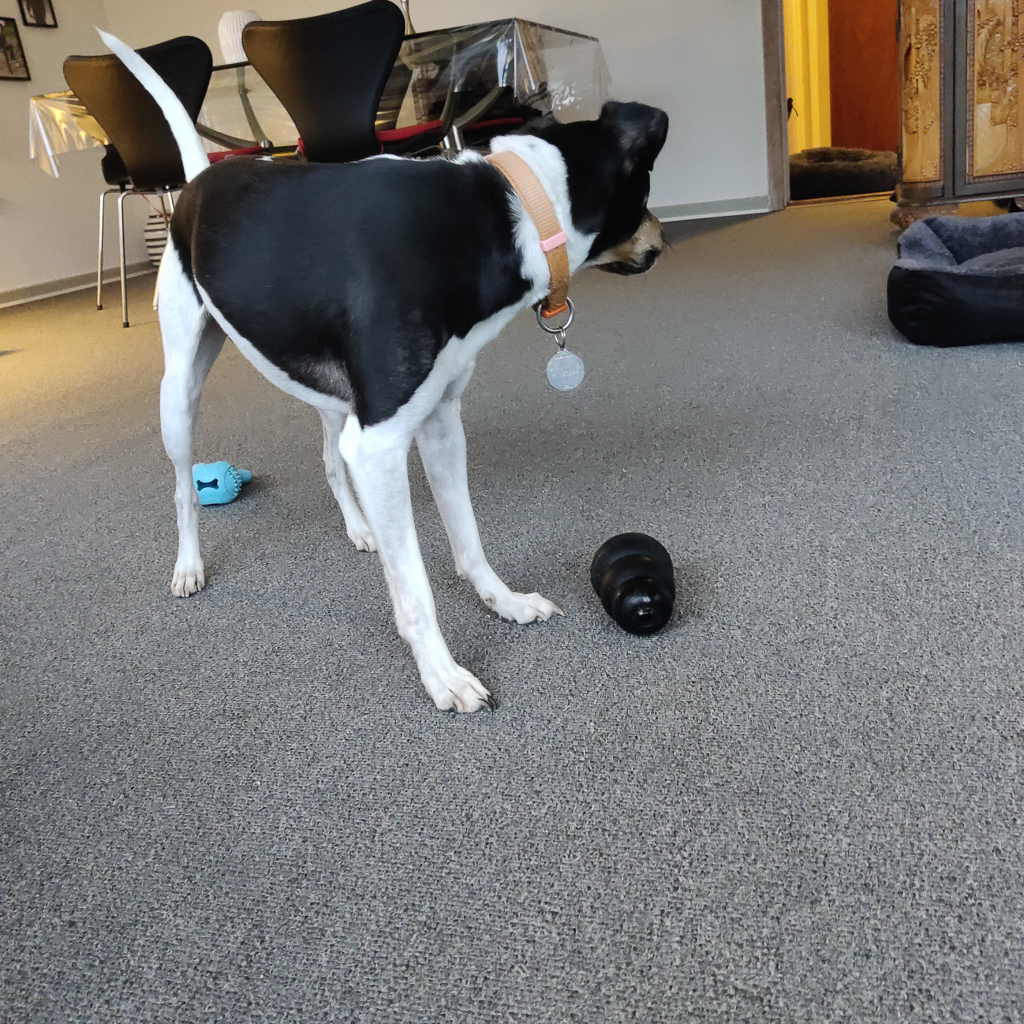Dog: (72, 14, 698, 735)
